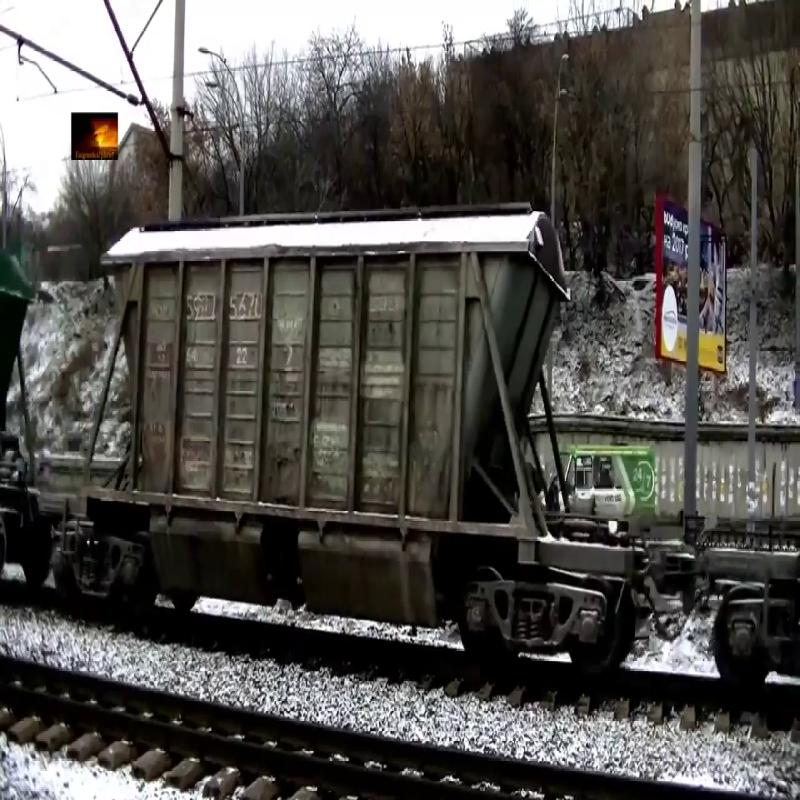train: (70, 202, 567, 628), (3, 240, 32, 538)
